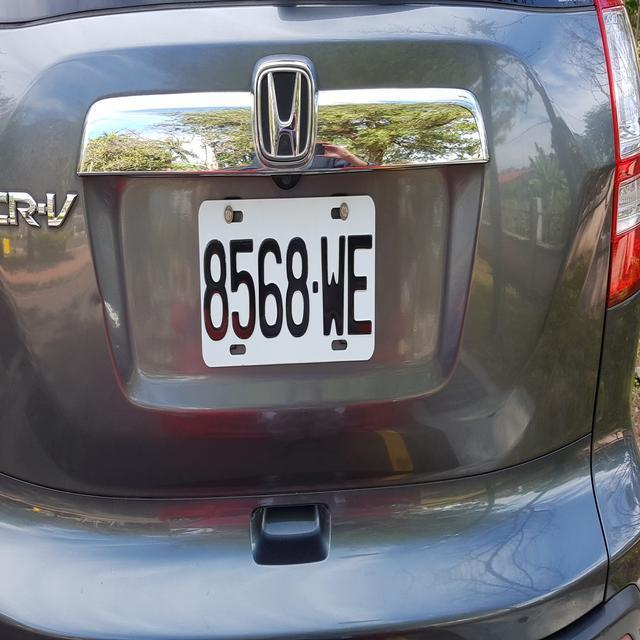license: (198, 202, 374, 361)
